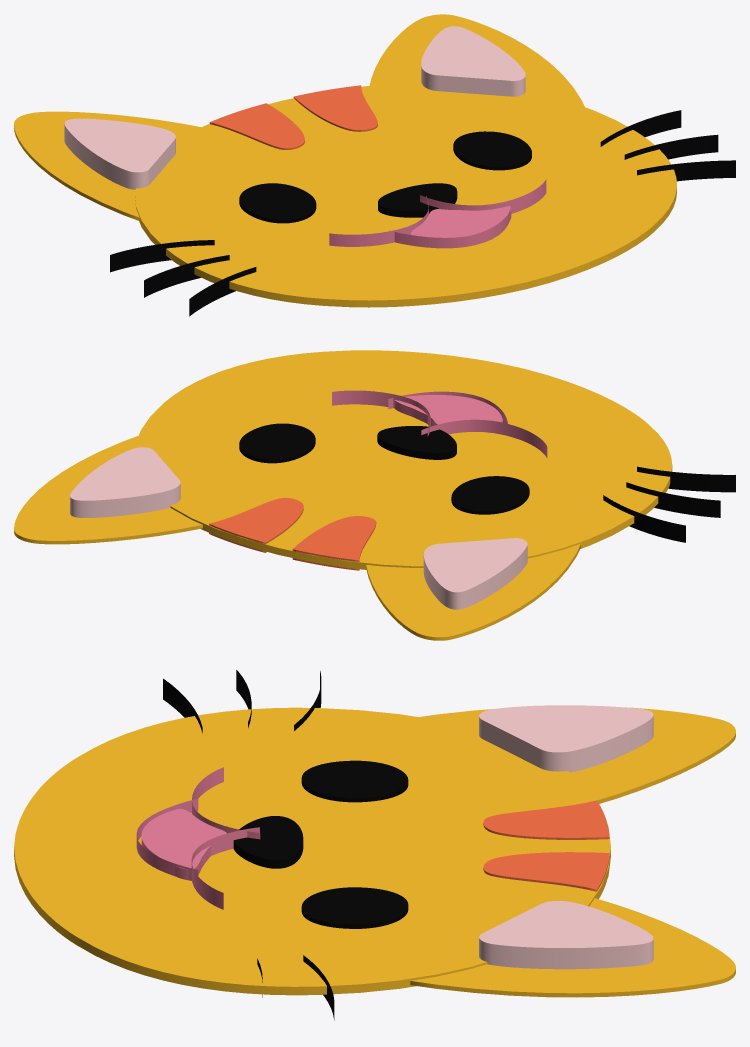
Rendered from emoji_u1f63a.glb.
3 renders of one model, top to bottom at view 1: azimuth 30°, elevation 25°; view 2: azimuth 150°, elevation 25°; view 3: azimuth 270°, elevation 25°, orthographic. The views are drawn at different scales.
Visible parts, largest first — view 1: emoji_u1f63a; view 2: emoji_u1f63a; view 3: emoji_u1f63a.
Part boxes in pixels (x1=…): emoji_u1f63a: x1=14, y1=14, x2=735, y2=316; emoji_u1f63a: x1=14, y1=350, x2=735, y2=640; emoji_u1f63a: x1=14, y1=670, x2=735, y2=1020.
Bounding box in the file's own units: 0.0347 × 0.0022 × 0.031.
